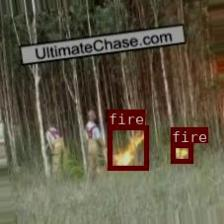fire: (107, 125, 148, 169), (170, 142, 192, 162)
